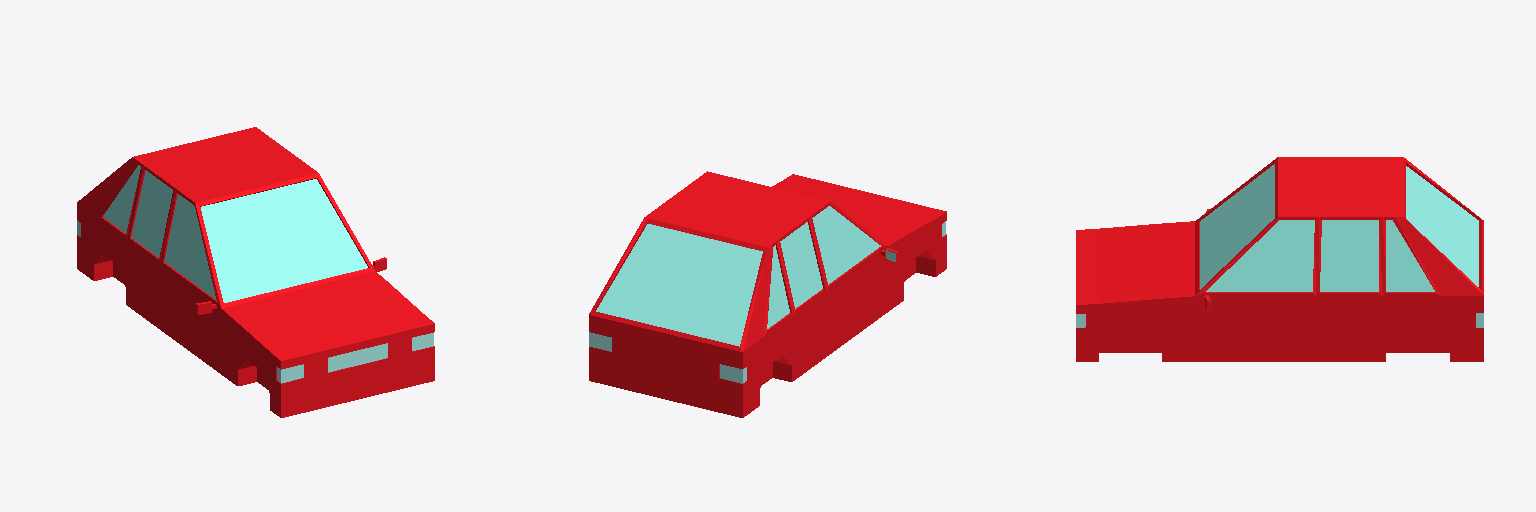
The picture shows the model from 3 angles: view 1: azimuth 30°, elevation 25°; view 2: azimuth 150°, elevation 25°; view 3: azimuth 270°, elevation 25°; orthographic projection.
Parts seen in each view (by area): view 1: Car_Car1_Cube.001; view 2: Car_Car1_Cube.001; view 3: Car_Car1_Cube.001.
Boxes of the visible parts, box(x1,y1,x2,y2) form: Car_Car1_Cube.001: box(77, 127, 434, 417); Car_Car1_Cube.001: box(589, 171, 946, 417); Car_Car1_Cube.001: box(1076, 157, 1483, 361).
Bounding box in the file's own units: 2.46 × 1.71 × 4.6.
Materials: 1 (1 with a texture image).